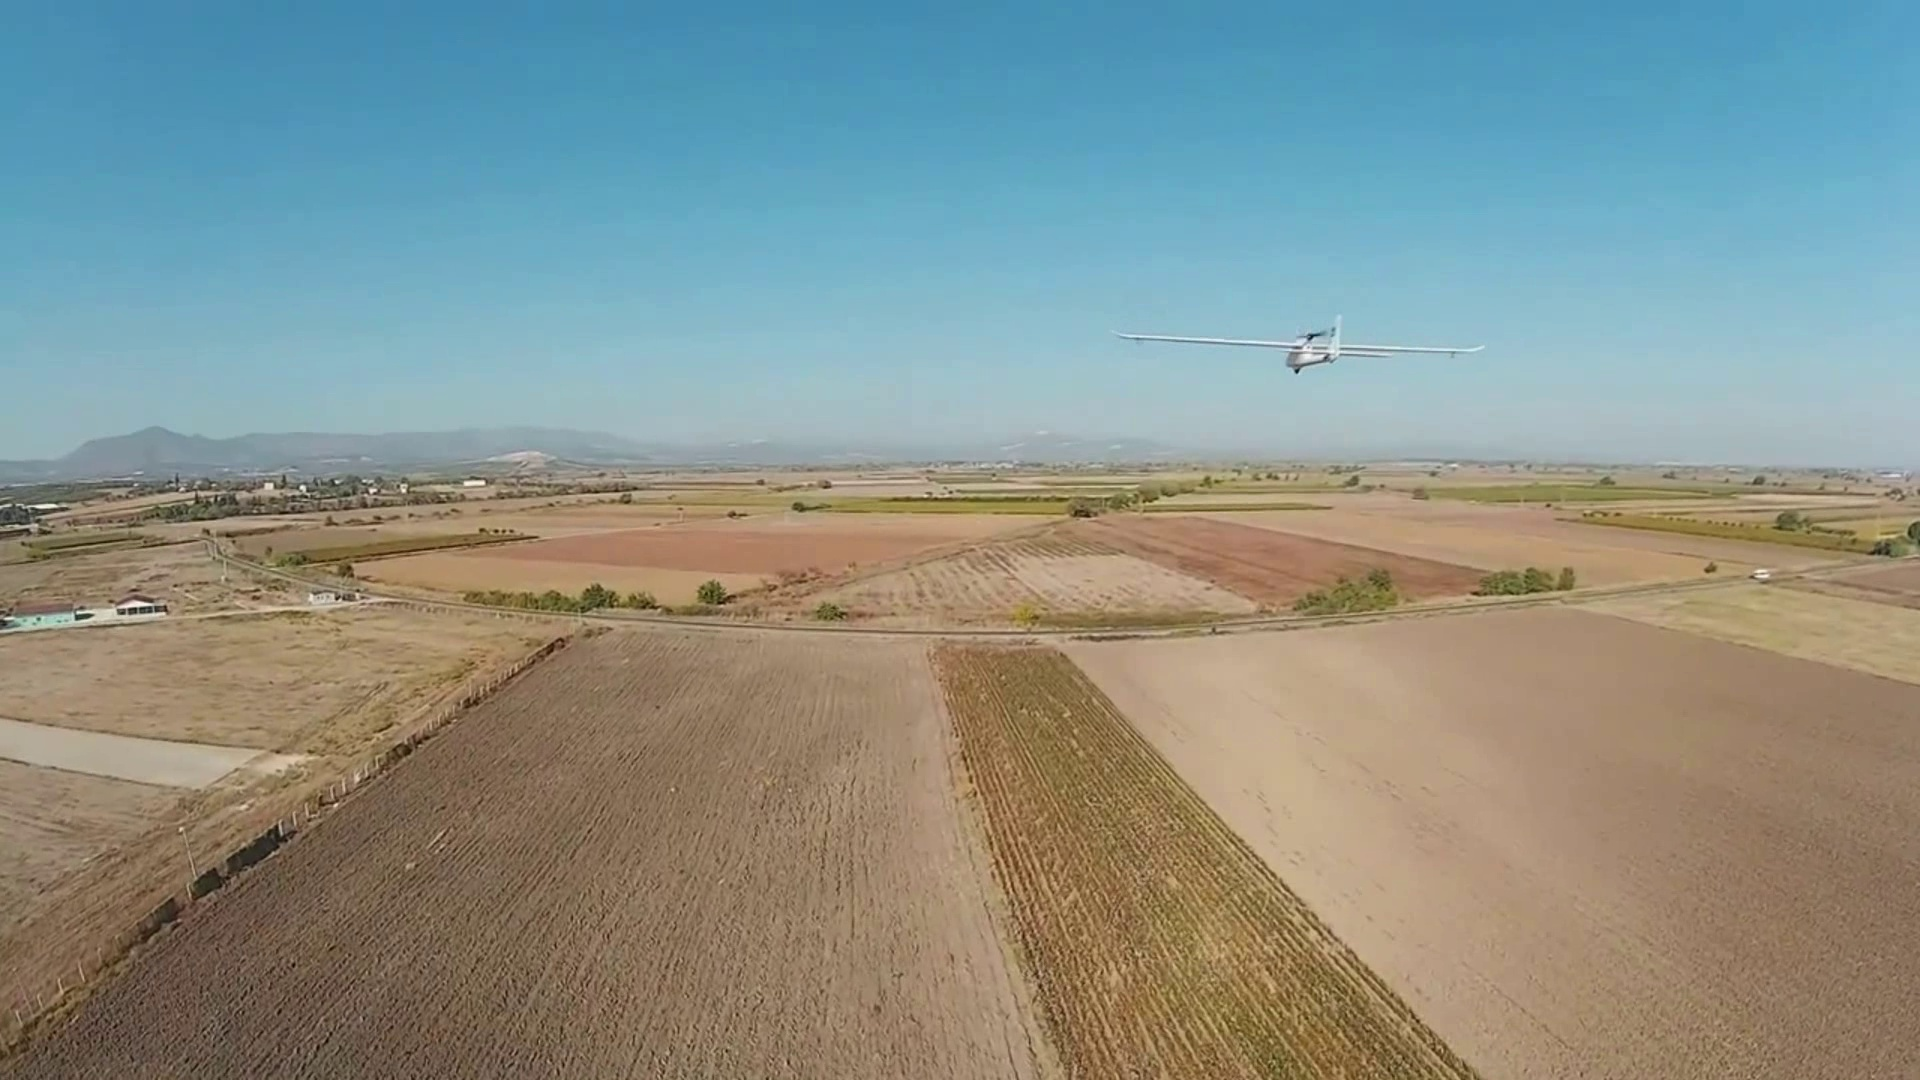airplane: (1113, 314, 1485, 371), (1284, 314, 1490, 368)
